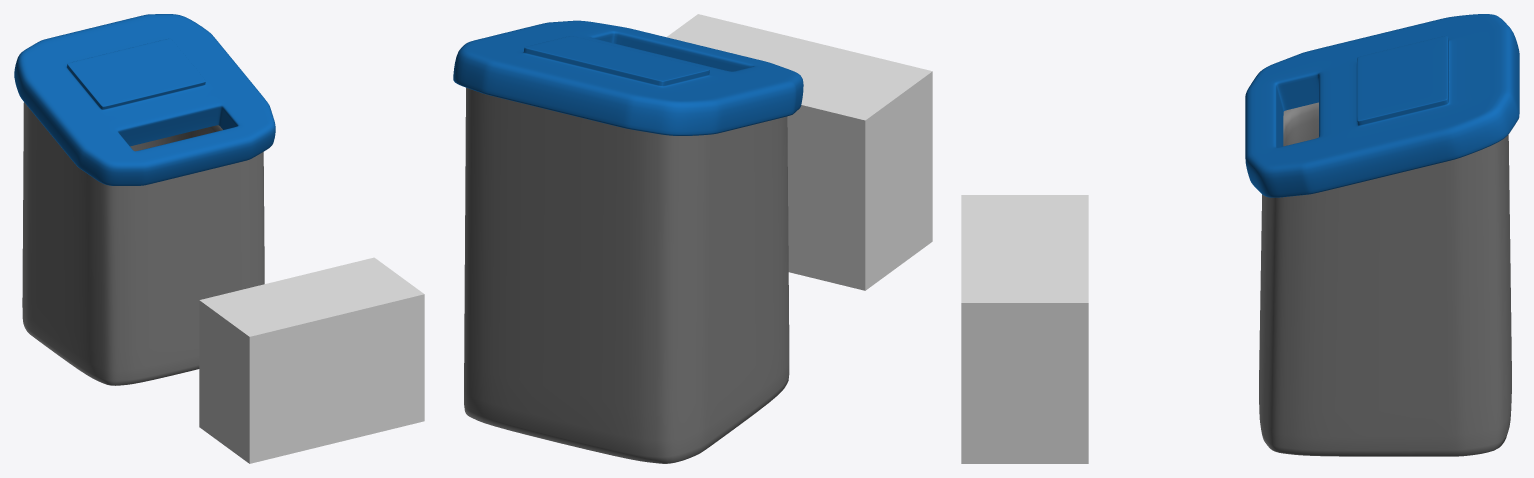
Rendered from BlueBin.fbx.
3 renders of one model, left to right at view 1: azimuth 30°, elevation 25°; view 2: azimuth 150°, elevation 25°; view 3: azimuth 270°, elevation 25°, orthographic. The views are drawn at different scales.
Parts seen in each view (by area): view 1: High_Canteen_Bin, Box001; view 2: High_Canteen_Bin, Box001; view 3: High_Canteen_Bin, Box001.
Part boxes in pixels (x1,y1,x2,y2): High_Canteen_Bin: [14, 14, 275, 385]; Box001: [199, 257, 424, 463]; High_Canteen_Bin: [453, 20, 803, 463]; Box001: [666, 14, 932, 290]; High_Canteen_Bin: [1245, 14, 1519, 456]; Box001: [961, 195, 1088, 463].
Size of the model in its own units: 48.14 by 60.16 by 87.8.
